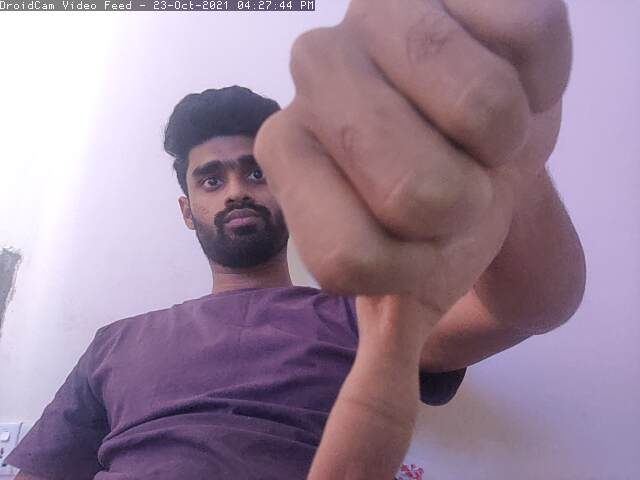ThumbsDown: (254, 1, 572, 480)
